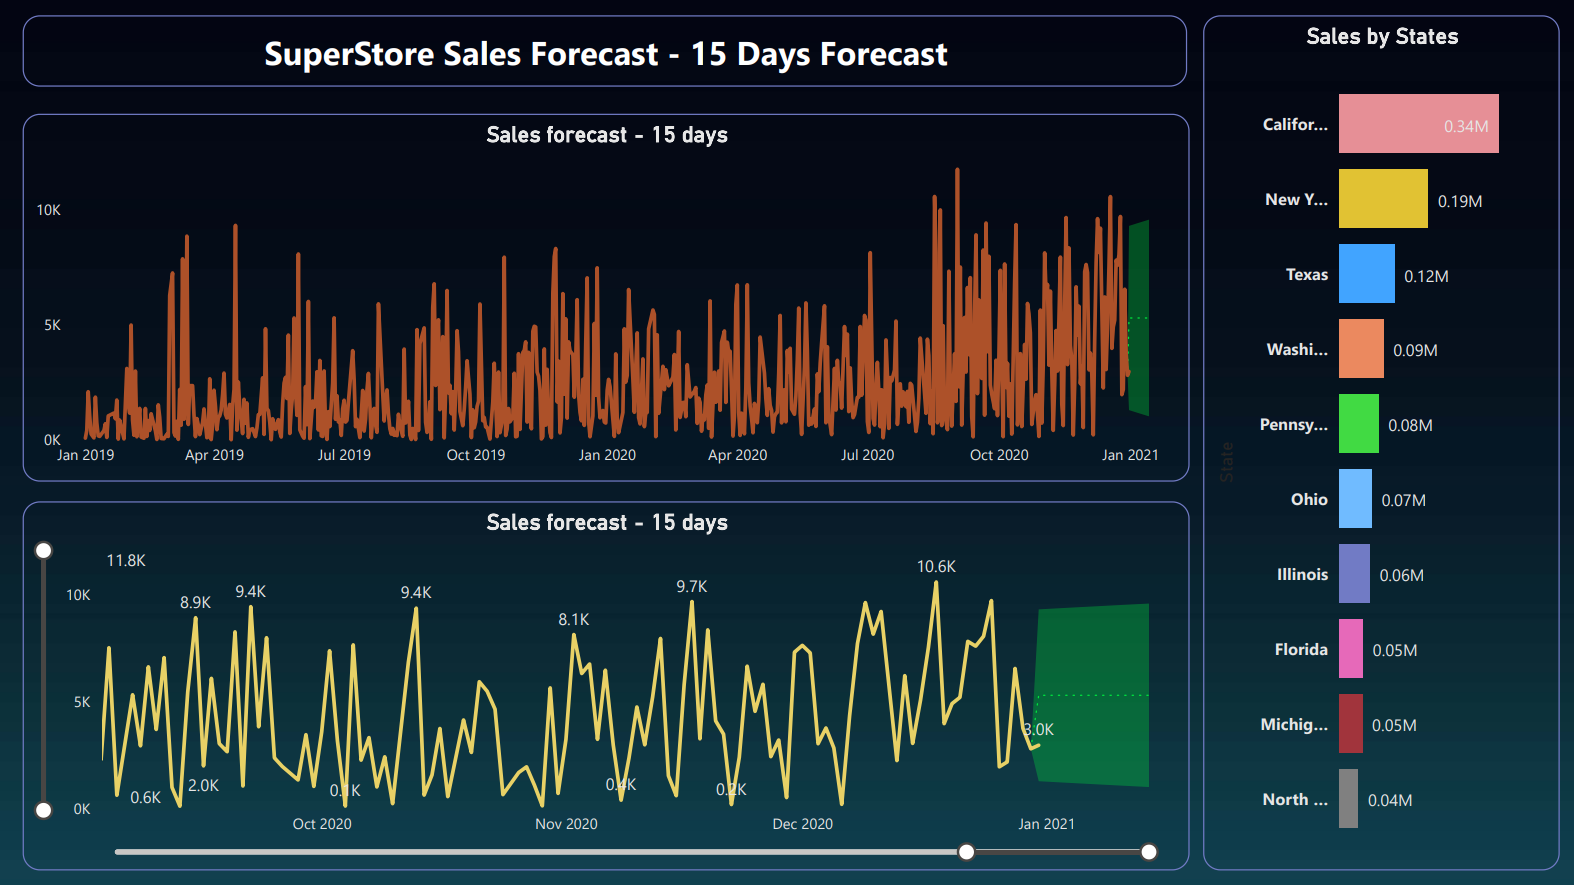

This screenshot's page, from the dashboard's own definition file:
{"tool":"powerbi","page":{"name":"Sales Forecast","canvas":[1280,720],"ordinal":1},"visuals":[{"type":"lineChart","title":"Sales forecast - 15 days","fields":{"Y":["Sum(SuperStore_Sales_Dataset.Sales)"],"Category":["SuperStore_Sales_Dataset.Order Date"]},"box":[17.8,91.9,948.8,298.9],"z":0},{"type":"lineChart","title":"Sales forecast - 15 days","fields":{"Y":["Sum(SuperStore_Sales_Dataset.Sales)"],"Category":["SuperStore_Sales_Dataset.Order Date"]},"box":[17.8,407.2,948.8,300.3],"z":1000},{"type":"textbox","box":[17.8,12.3,947.4,57.6],"z":2000},{"type":"clusteredBarChart","title":"Sales by States","fields":{"Category":["SuperStore_Sales_Dataset.State"],"Y":["Sum(SuperStore_Sales_Dataset.Sales)"]},"box":[977.6,12.3,290.7,695.1],"z":3000}]}

Visuals, with their boxes in screenshot pixels (x1, y1, x2, y2), scaled from the page's 1280x720 canvas onto the 1574x885 screenshot:
"Sales forecast - 15 days" lineChart: [x1=22, y1=113, x2=1189, y2=480]
"Sales forecast - 15 days" lineChart: [x1=22, y1=501, x2=1189, y2=870]
textbox: [x1=22, y1=15, x2=1187, y2=86]
"Sales by States" clusteredBarChart: [x1=1202, y1=15, x2=1560, y2=870]
